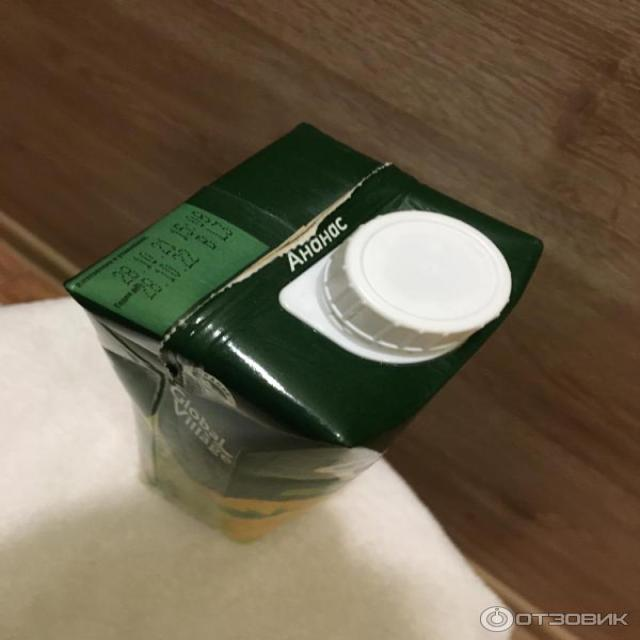Juice Global Village pineapple: (41, 108, 554, 542)
